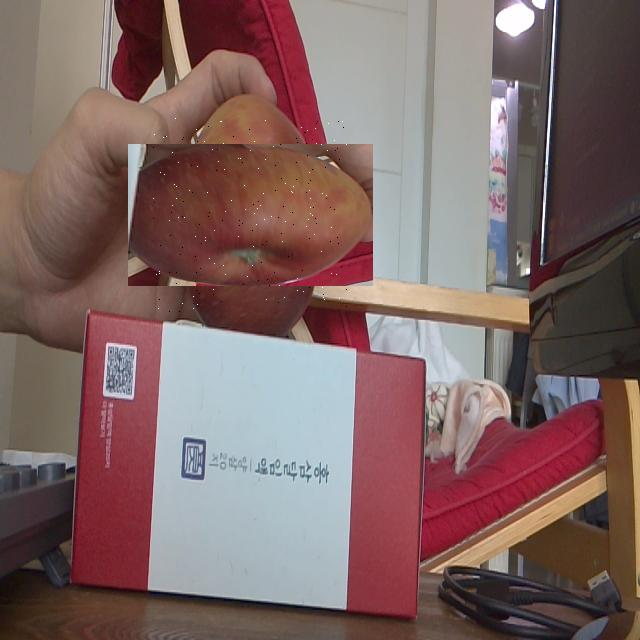apple: (153, 118, 347, 312)
